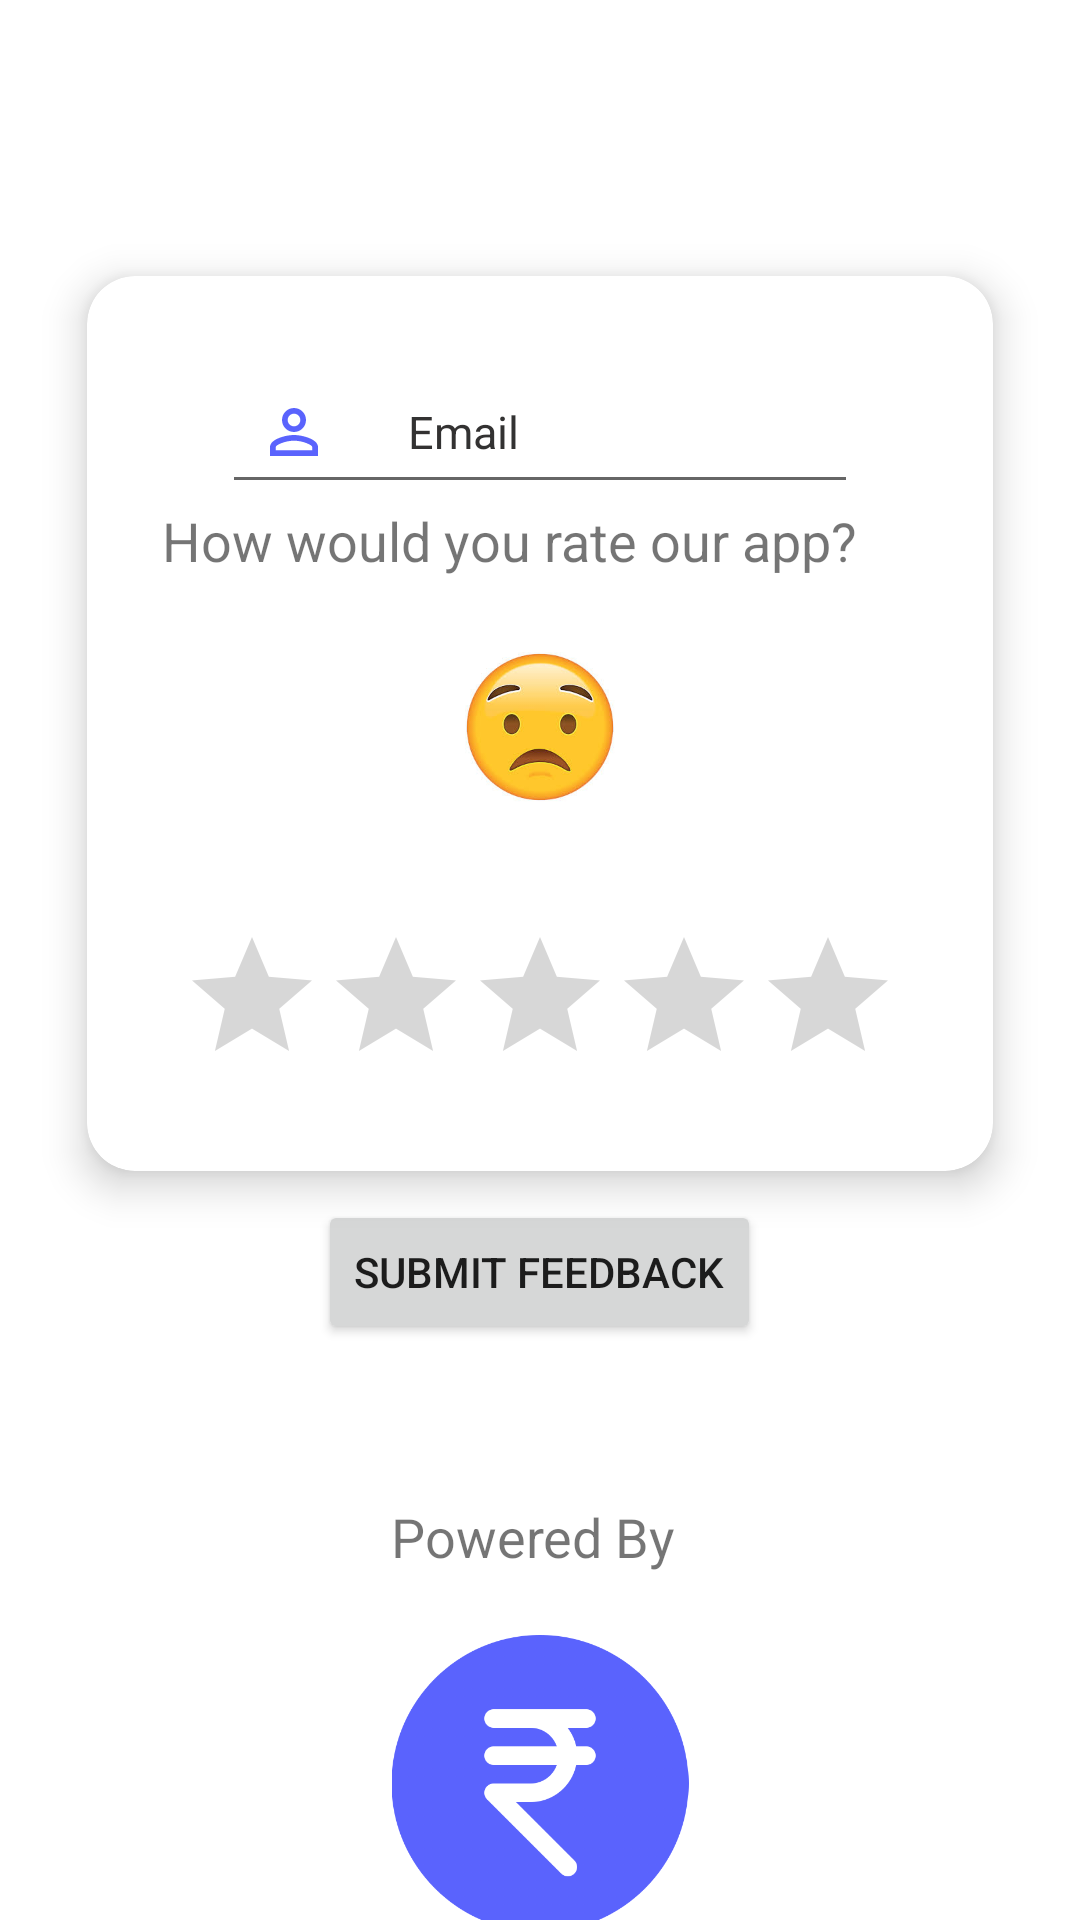

Locate icon controls on the screen. Image size 1080x1920, boxes as (x1, y1, x2, y2).
imoji four: (466, 654, 614, 800)
